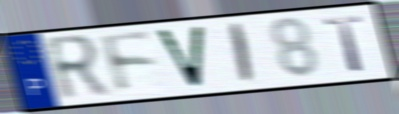8: (268, 16, 326, 83)
F: (97, 30, 160, 97)
I: (229, 21, 256, 86)
R: (42, 32, 113, 105)
T: (321, 14, 367, 74)
V: (152, 24, 208, 91)
